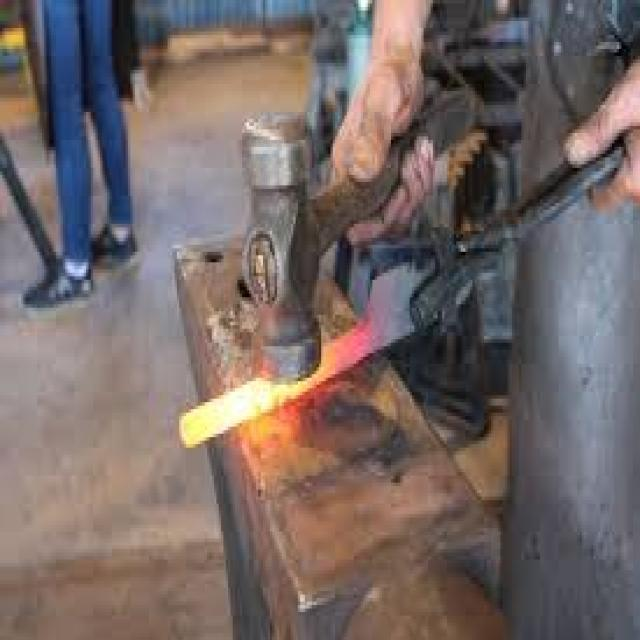hammer: (232, 98, 506, 392)
